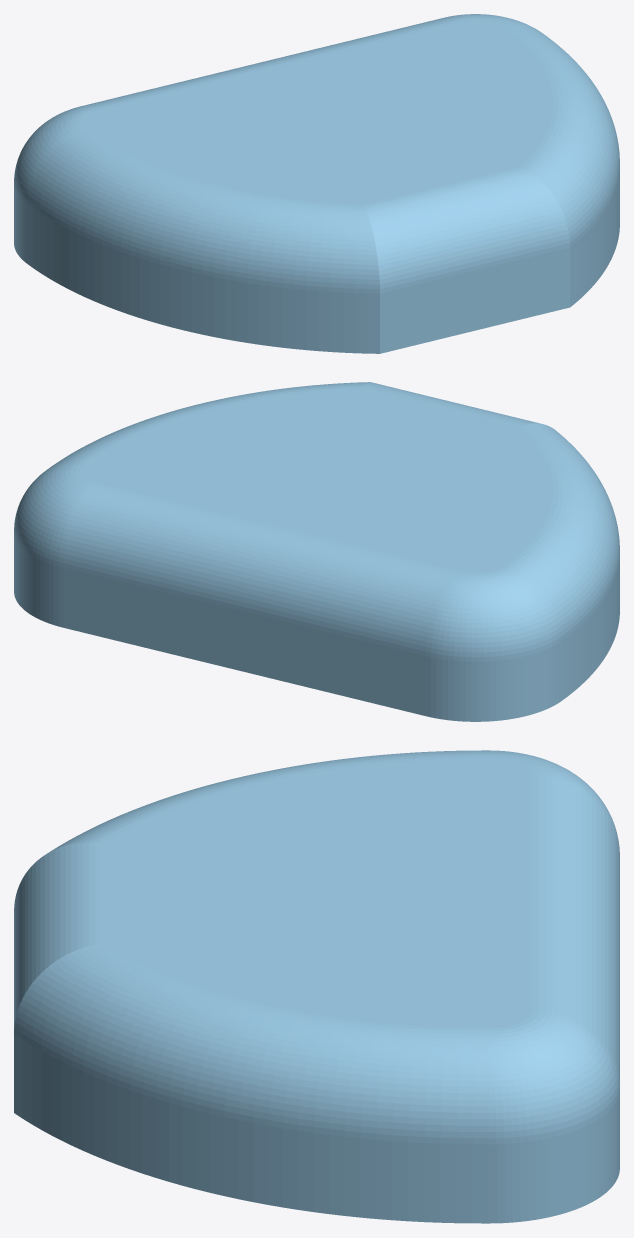
File: chassis.dae
The picture shows the model from 3 angles, top to bottom: view 1: azimuth 30°, elevation 25°; view 2: azimuth 150°, elevation 25°; view 3: azimuth 270°, elevation 25°; orthographic projection. The views are drawn at different scales.
Visible parts, largest first — view 1: ID2; view 2: ID2; view 3: ID2.
Boxes of the visible parts, bbox=[...] form: ID2: bbox=[14, 14, 619, 353]; ID2: bbox=[14, 382, 619, 721]; ID2: bbox=[14, 750, 619, 1223].
Bounding box in the file's own units: 0.2791 × 0.2081 × 0.06.
